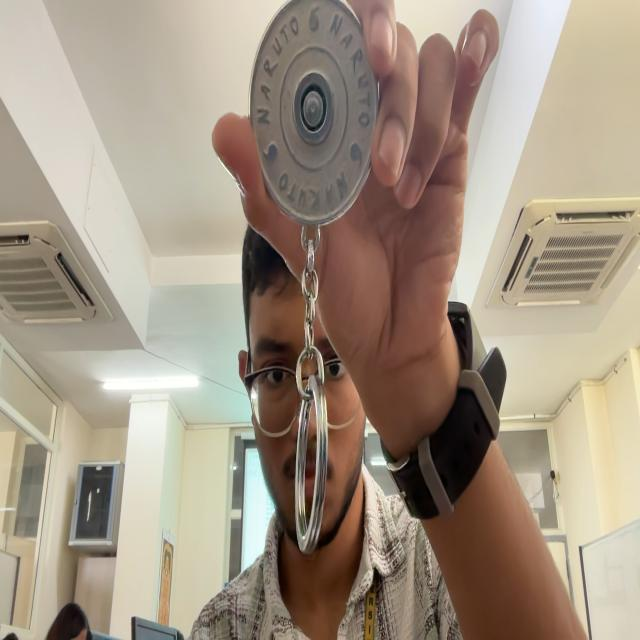dangerous: (249, 0, 379, 553)
